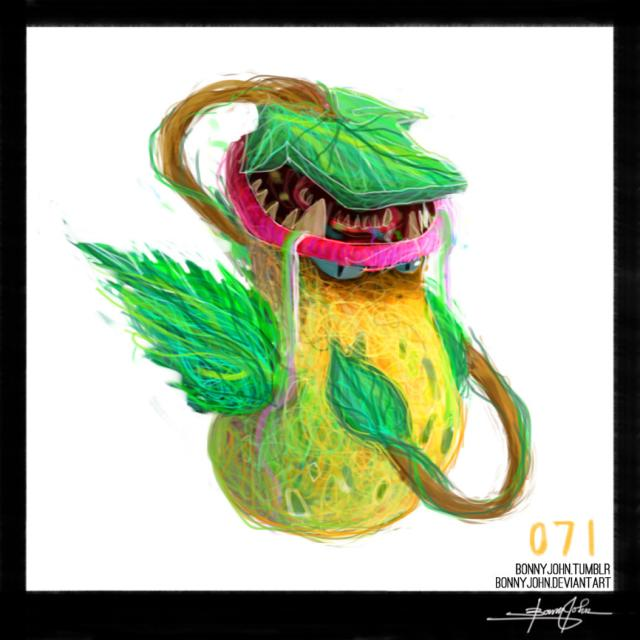Victreebel: (191, 77, 474, 530)
